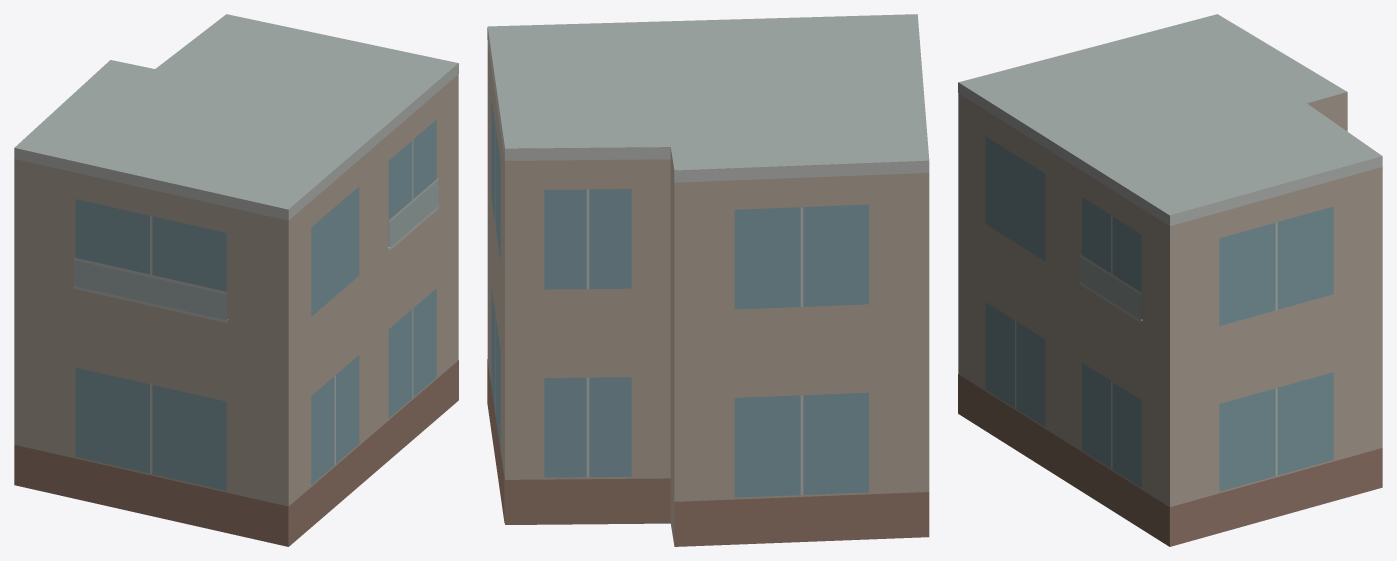
File: survey-upis-32585857.glb
The picture shows the model from 3 angles, left to right: view 1: azimuth 30°, elevation 25°; view 2: azimuth 150°, elevation 25°; view 3: azimuth 270°, elevation 25°; orthographic projection. The views are drawn at different scales.
Parts seen in each view (by area): view 1: survey-upis-32585857.tmp; view 2: survey-upis-32585857.tmp; view 3: survey-upis-32585857.tmp.
Part boxes in pixels (left/top/right/bottom): survey-upis-32585857.tmp: left=14, top=14, right=458, bottom=546; survey-upis-32585857.tmp: left=487, top=14, right=929, bottom=546; survey-upis-32585857.tmp: left=958, top=14, right=1382, bottom=546.
Size of the model in its own units: 9.79 by 7.5 by 8.71.
